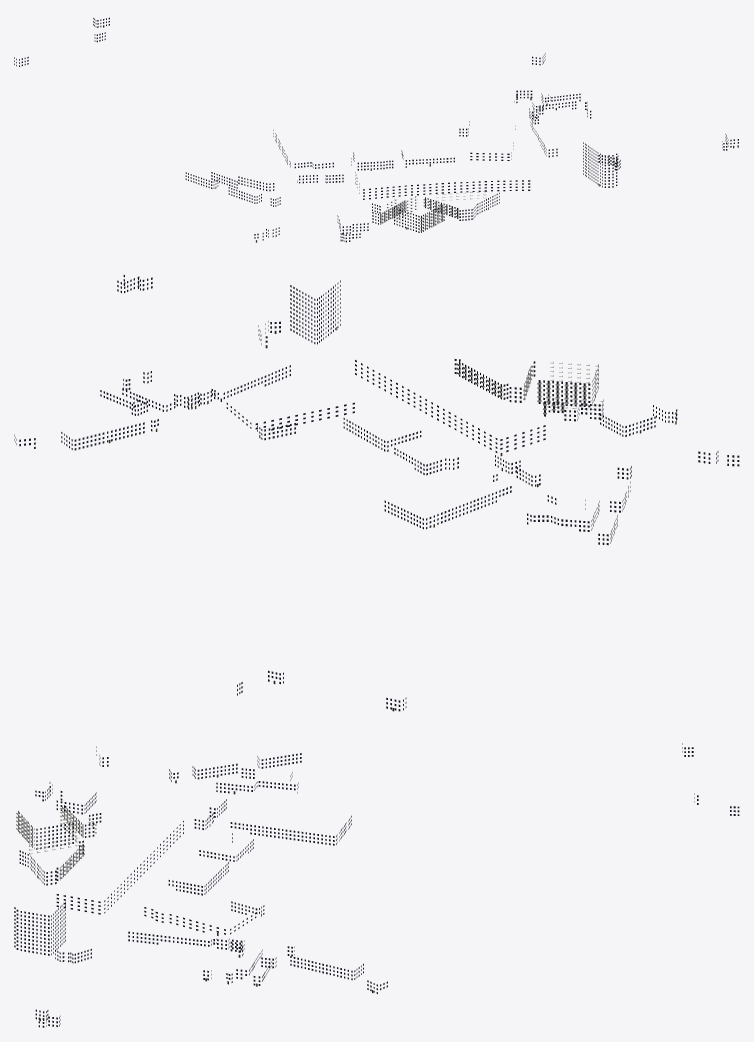
File: facades.glb
3 renders of one model, top to bottom at view 1: azimuth 30°, elevation 25°; view 2: azimuth 150°, elevation 25°; view 3: azimuth 270°, elevation 25°, orthographic. The views are drawn at different scales.
Visible parts, largest first — view 1: T_E0_N4_facades; view 2: T_E0_N4_facades; view 3: T_E0_N4_facades.
Part boxes in pixels (x1,y1,x2,y2): T_E0_N4_facades: (14,17,738,242); T_E0_N4_facades: (14,275,739,711); T_E0_N4_facades: (14,743,739,1027).
Size of the model in its own units: 468 by 32.4 by 516.
